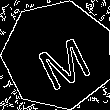M_NW: (26, 22, 90, 88)
